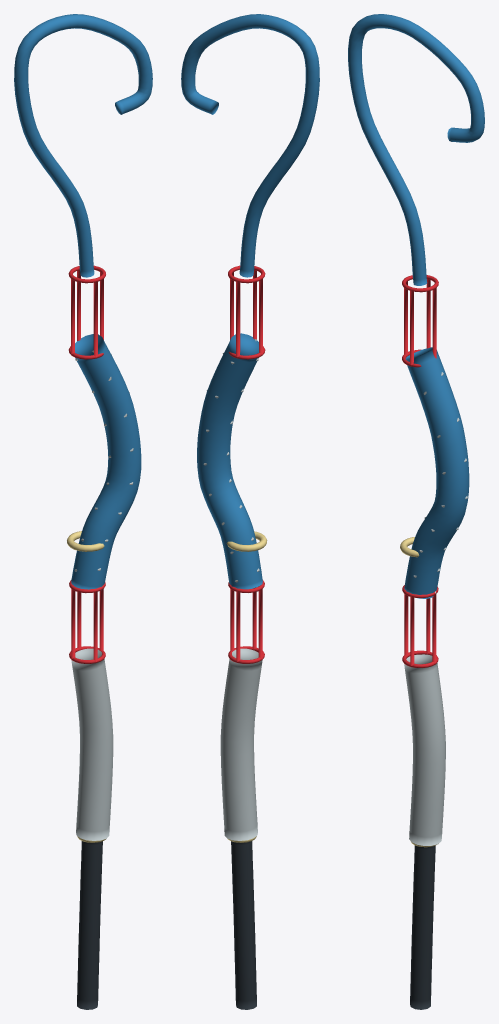
The model's file is impella-cp-v1.glb.
3 views of the same model, side by side, from view 1: azimuth 30°, elevation 25°; view 2: azimuth 150°, elevation 25°; view 3: azimuth 330°, elevation 25° (orthographic).
Visible parts, largest first — view 1: Impella_CP_ReinforcedCannula, Impella_CP_DistalPigtail, Impella_CP_MotorHousing, Impella_CP_ProximalShaft, Impella_CP_OutletCage, Impella_CP_InletCage, Impella_CP_AorticAnnulusMarker; view 2: Impella_CP_ReinforcedCannula, Impella_CP_DistalPigtail, Impella_CP_MotorHousing, Impella_CP_ProximalShaft, Impella_CP_OutletCage, Impella_CP_InletCage, Impella_CP_AorticAnnulusMarker; view 3: Impella_CP_ReinforcedCannula, Impella_CP_DistalPigtail, Impella_CP_MotorHousing, Impella_CP_ProximalShaft, Impella_CP_OutletCage, Impella_CP_InletCage.
Part boxes in pixels (<box>): Impella_CP_ReinforcedCannula: <box>71,334,141,589</box>; Impella_CP_DistalPigtail: <box>14,14,152,277</box>; Impella_CP_MotorHousing: <box>71,648,113,840</box>; Impella_CP_ProximalShaft: <box>77,841,102,1009</box>; Impella_CP_OutletCage: <box>69,580,105,663</box>; Impella_CP_InletCage: <box>68,265,105,359</box>; Impella_CP_AorticAnnulusMarker: <box>67,531,104,551</box>; Impella_CP_ReinforcedCannula: <box>197,333,262,589</box>; Impella_CP_DistalPigtail: <box>181,14,319,277</box>; Impella_CP_MotorHousing: <box>220,648,262,840</box>; Impella_CP_ProximalShaft: <box>231,841,256,1009</box>; Impella_CP_OutletCage: <box>228,580,264,663</box>; Impella_CP_InletCage: <box>228,265,265,359</box>; Impella_CP_AorticAnnulusMarker: <box>226,531,267,551</box>; Impella_CP_ReinforcedCannula: <box>404,347,469,598</box>; Impella_CP_DistalPigtail: <box>348,14,484,285</box>; Impella_CP_MotorHousing: <box>404,654,445,845</box>; Impella_CP_ProximalShaft: <box>410,845,435,1009</box>; Impella_CP_OutletCage: <box>402,585,438,667</box>; Impella_CP_InletCage: <box>402,275,438,367</box>.
Size of the model in its own units: 0.5243 by 3.65 by 0.1456.
